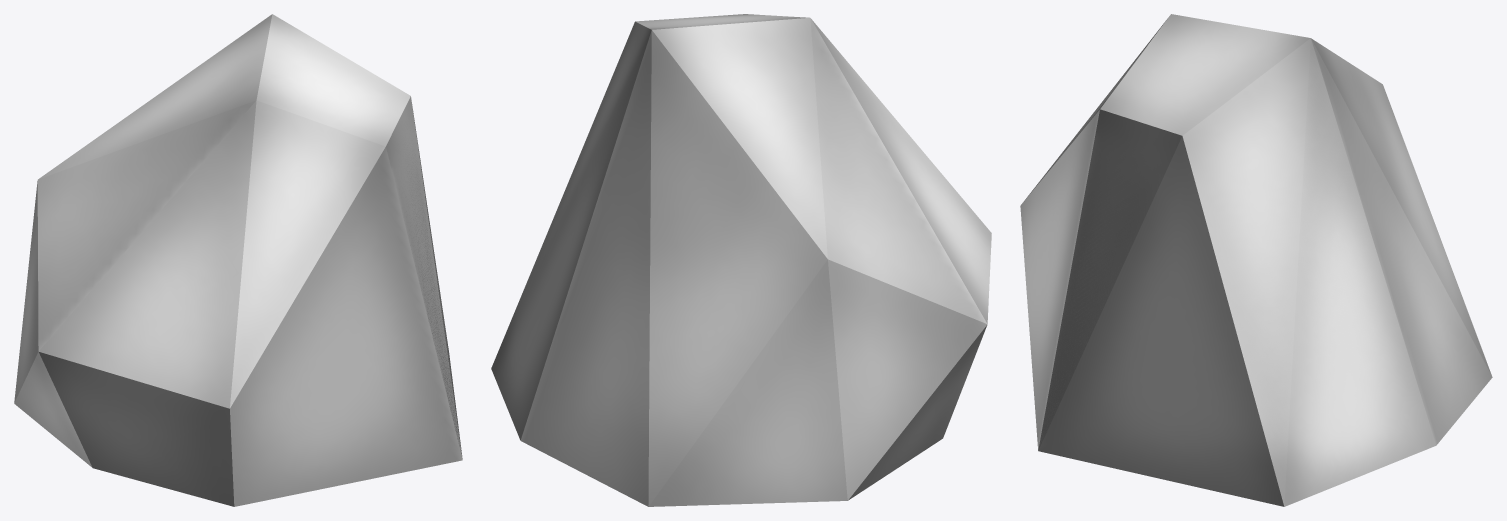
Rendered from p_rock03.fbx.
3 views of the same model, side by side, from view 1: azimuth 30°, elevation 25°; view 2: azimuth 150°, elevation 25°; view 3: azimuth 270°, elevation 25° (orthographic). The views are drawn at different scales.
Parts seen in each view (by area): view 1: p_rock03, p_rock031; view 2: p_rock03, p_rock031; view 3: p_rock03, p_rock031.
Boxes of the visible parts, box(x1,y1,x2,y2) form: p_rock03: box(14, 14, 462, 506); p_rock031: box(388, 98, 461, 453); p_rock03: box(491, 14, 991, 506); p_rock031: box(501, 22, 651, 438); p_rock03: box(1020, 14, 1492, 506); p_rock031: box(1039, 39, 1434, 496).
Size of the model in its own units: 34.06 by 27.31 by 30.34.
